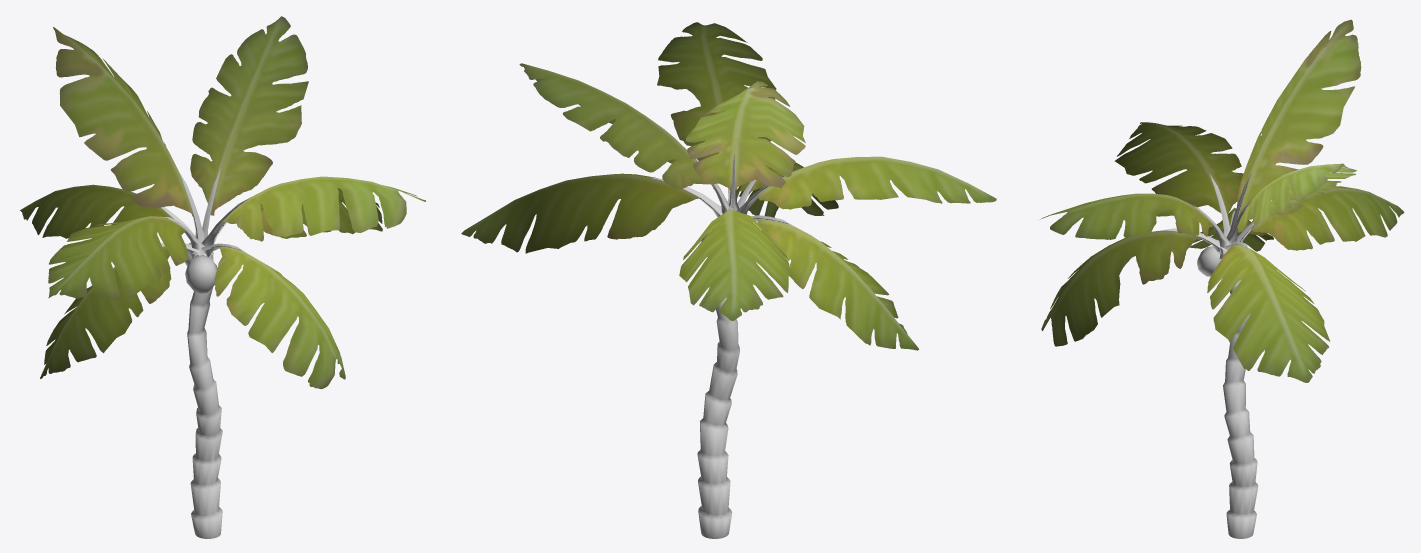
File: palm5_lod0.fbx
3 views of the same model, side by side, from view 1: azimuth 30°, elevation 25°; view 2: azimuth 150°, elevation 25°; view 3: azimuth 270°, elevation 25° (orthographic). The views are drawn at different scales.
Visible parts, largest first — view 1: Tree_0_Tree_0Mat_0.002; view 2: Tree_0_Tree_0Mat_0.002; view 3: Tree_0_Tree_0Mat_0.002.
Part boxes in pixels (<box>): Tree_0_Tree_0Mat_0.002: <box>20,16,425,538</box>; Tree_0_Tree_0Mat_0.002: <box>461,22,996,538</box>; Tree_0_Tree_0Mat_0.002: <box>1040,19,1404,538</box>.
Size of the model in its own units: 373 by 416 by 300.
